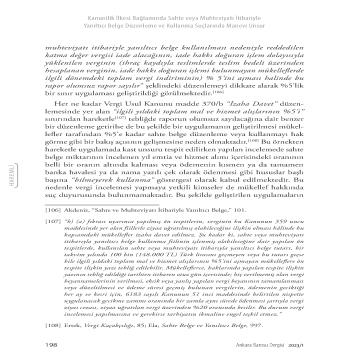footer: (64, 207, 312, 330)
header: (79, 14, 270, 30)
